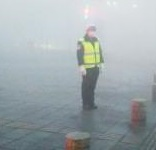person: (76, 22, 106, 112)
